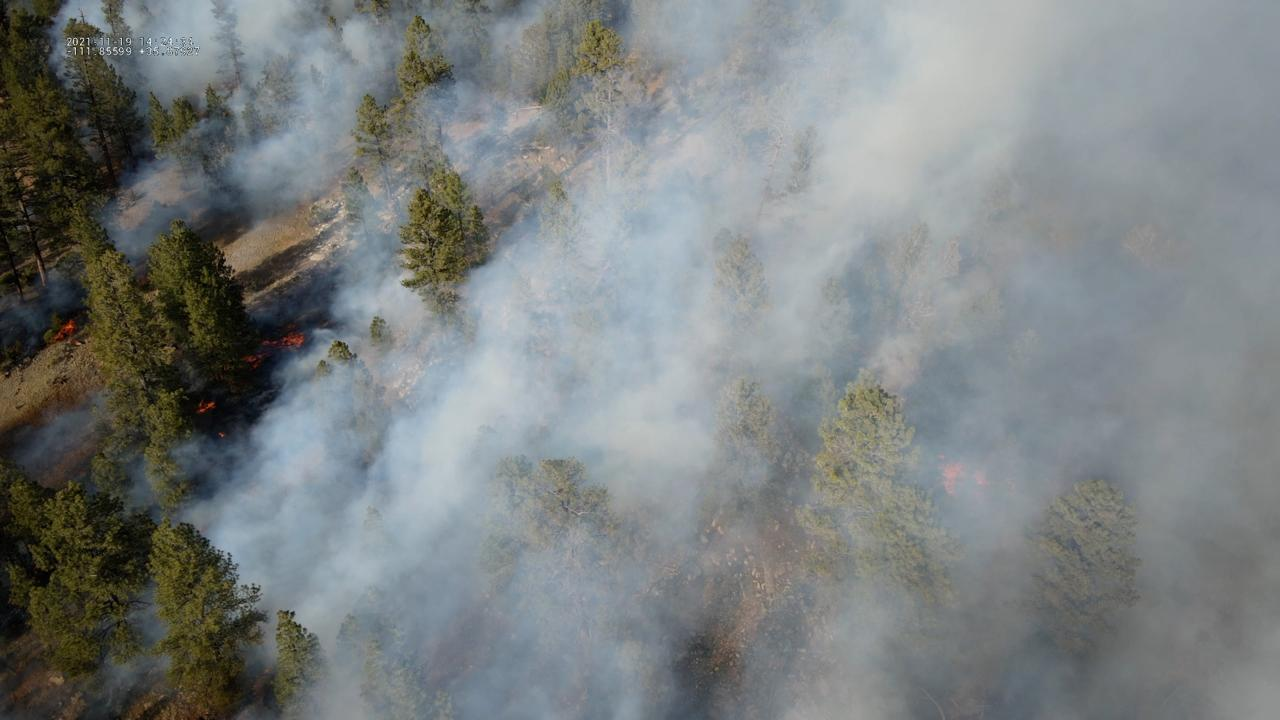fire: (260, 331, 308, 350), (938, 461, 963, 496), (49, 315, 78, 345), (235, 350, 268, 370), (193, 396, 218, 414), (972, 469, 989, 488), (217, 429, 227, 439), (936, 454, 946, 460)
smoke: (0, 0, 1280, 720)
